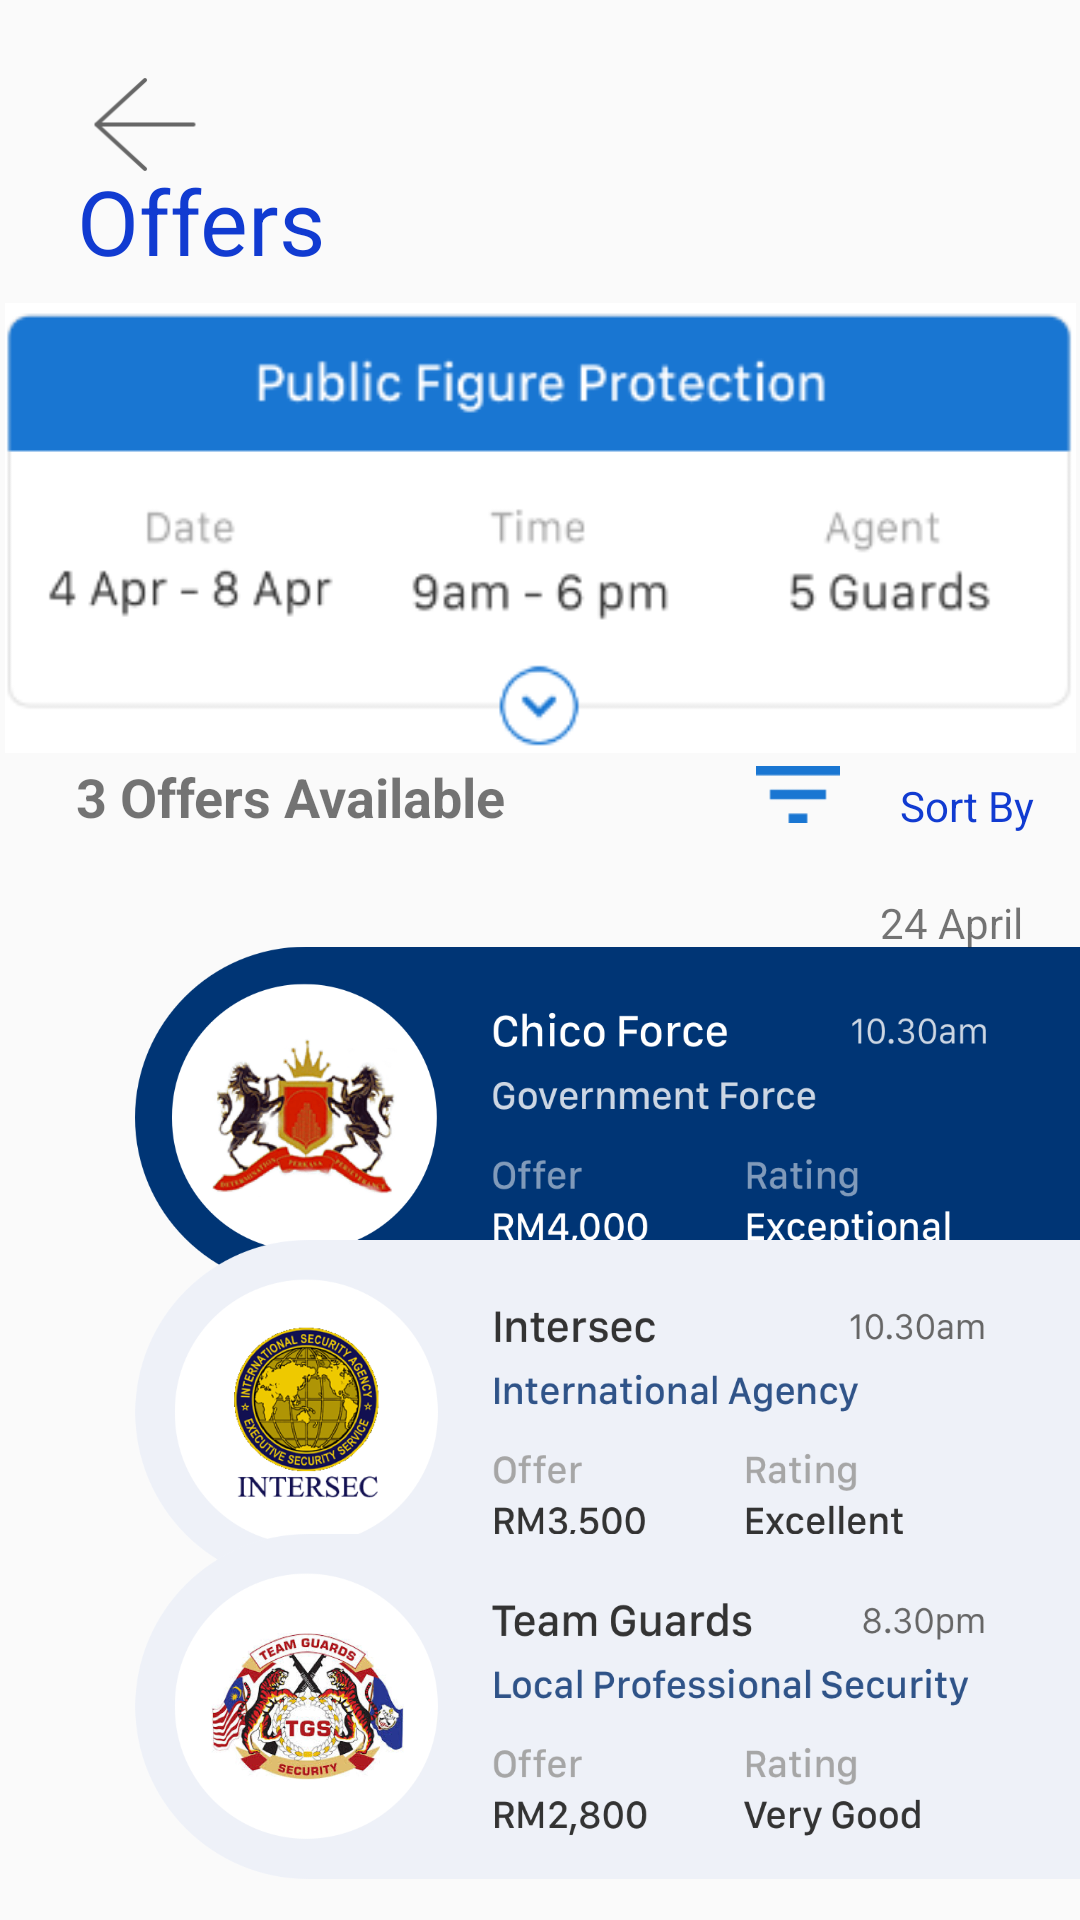

Icon bounding boxes for this 1080 x 1920 phone screenshot, format (x1, y1, x2, y2):
back: (94, 78, 196, 171)
filter: (756, 766, 840, 823)
